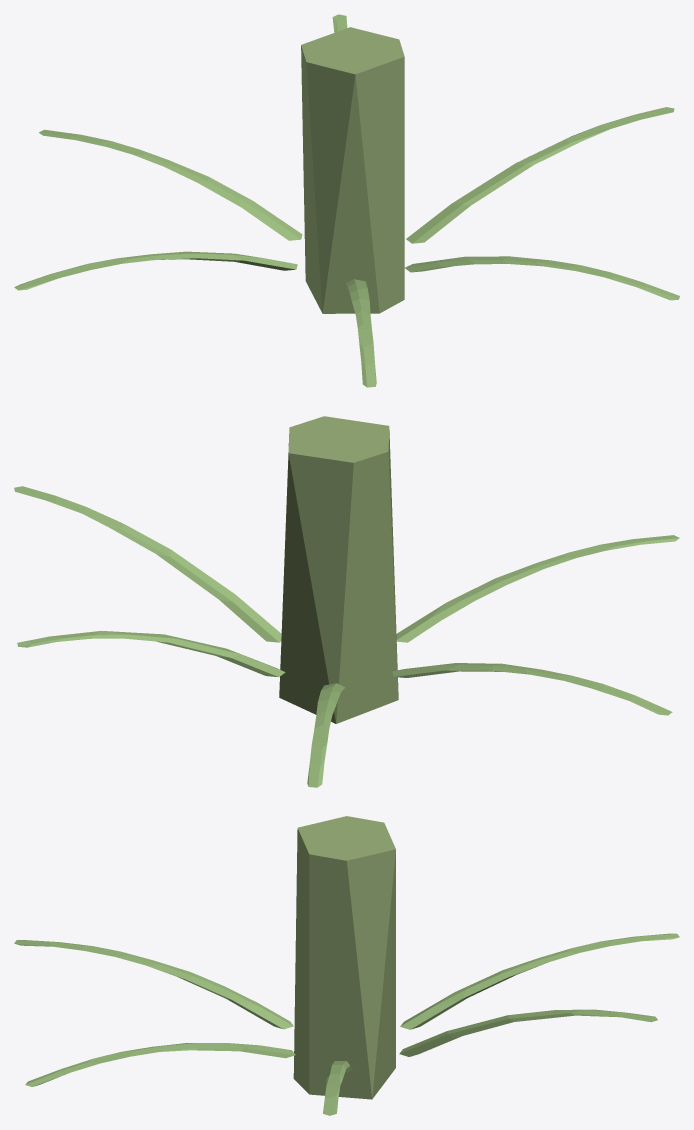
Rendered from 50-Vegetacion_helecho_chico.glb.
The picture shows the model from 3 angles, top to bottom: view 1: azimuth 30°, elevation 25°; view 2: azimuth 150°, elevation 25°; view 3: azimuth 270°, elevation 25°; orthographic projection. The views are drawn at different scales.
Parts seen in each view (by area): view 1: SM_HelechoChico_M_Tronco_HelechoChico, SM_HelechoChico_M_Tallo_HelechoChico; view 2: SM_HelechoChico_M_Tronco_HelechoChico, SM_HelechoChico_M_Tallo_HelechoChico; view 3: SM_HelechoChico_M_Tronco_HelechoChico, SM_HelechoChico_M_Tallo_HelechoChico.
Boxes of the visible parts, <box> form: SM_HelechoChico_M_Tronco_HelechoChico: <box>301,27,404,313</box>; SM_HelechoChico_M_Tallo_HelechoChico: <box>14,14,679,387</box>; SM_HelechoChico_M_Tronco_HelechoChico: <box>279,416,398,723</box>; SM_HelechoChico_M_Tallo_HelechoChico: <box>14,486,679,787</box>; SM_HelechoChico_M_Tronco_HelechoChico: <box>293,816,395,1099</box>; SM_HelechoChico_M_Tallo_HelechoChico: <box>14,933,679,1115</box>.
Bounding box in the file's own units: 0.8223 × 0.3 × 0.7535.
